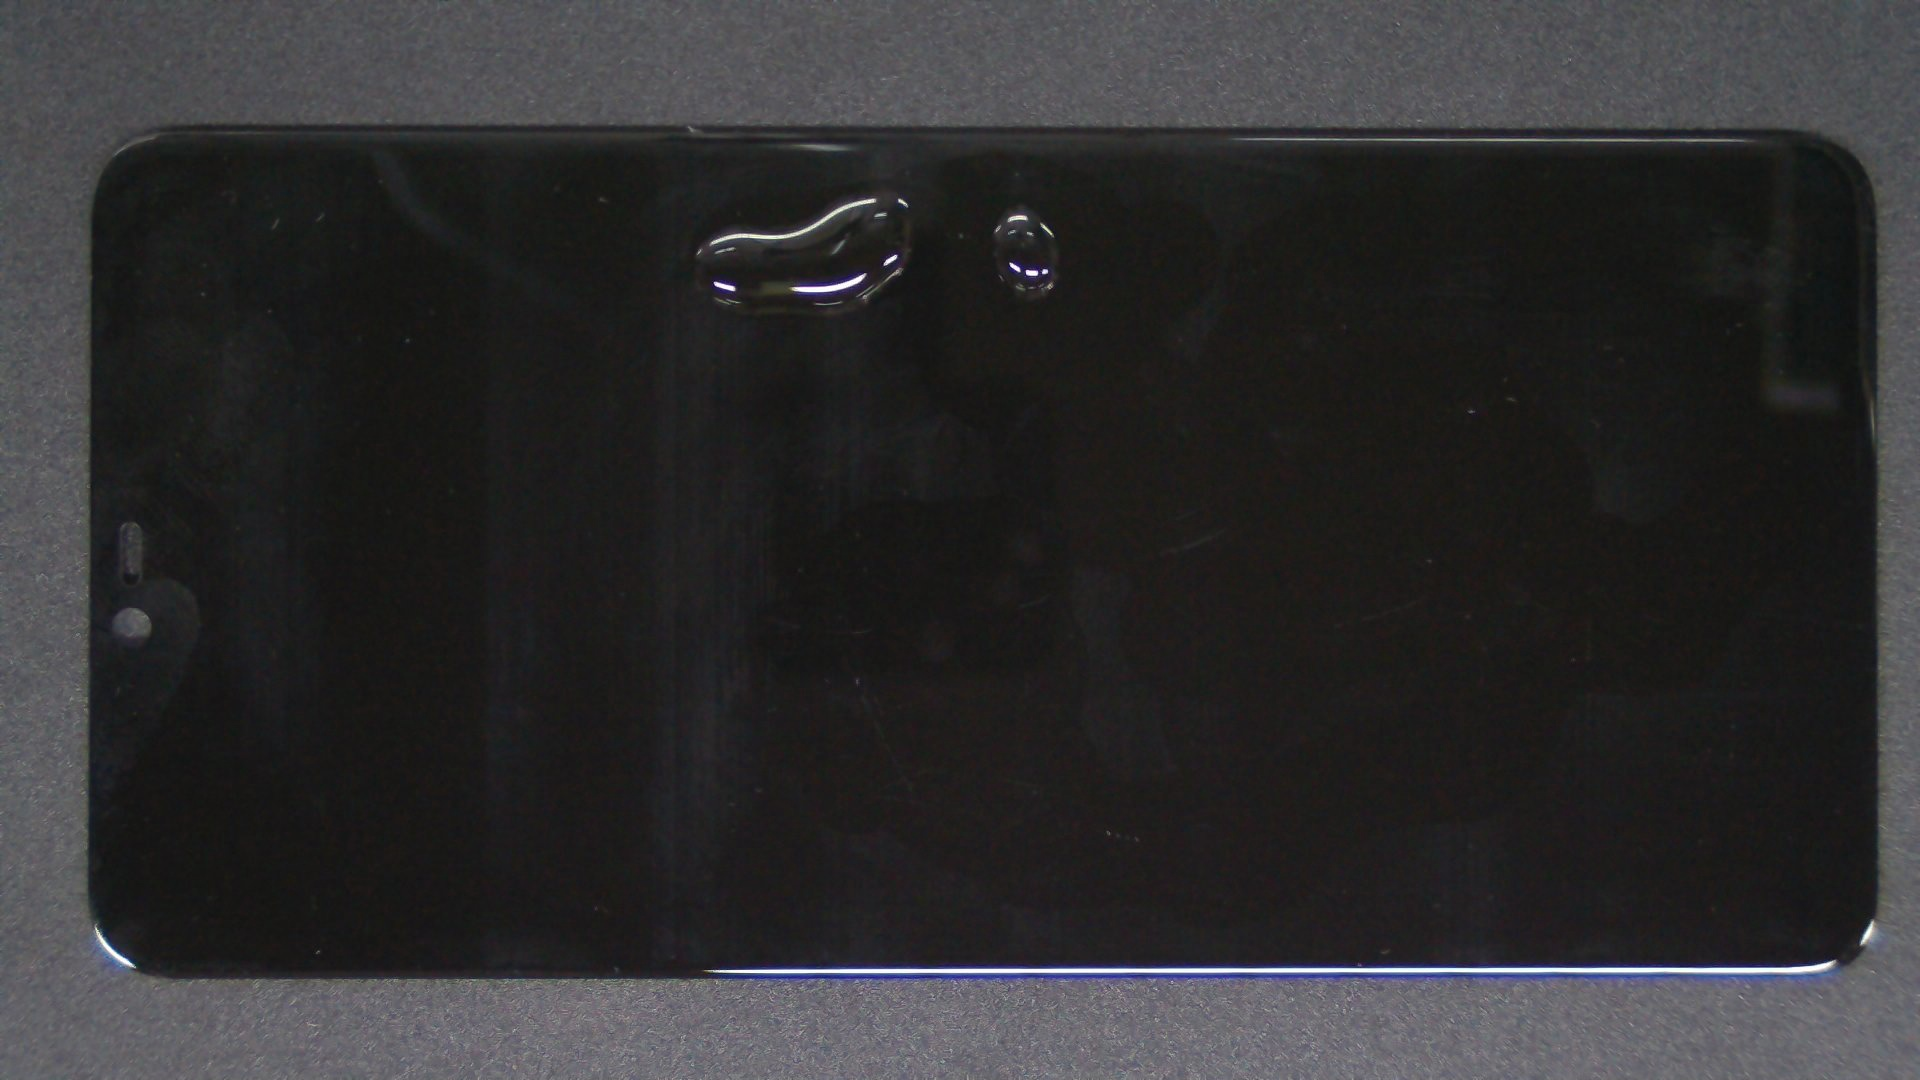oil: (509, 102, 1524, 306), (443, 94, 1328, 282)
